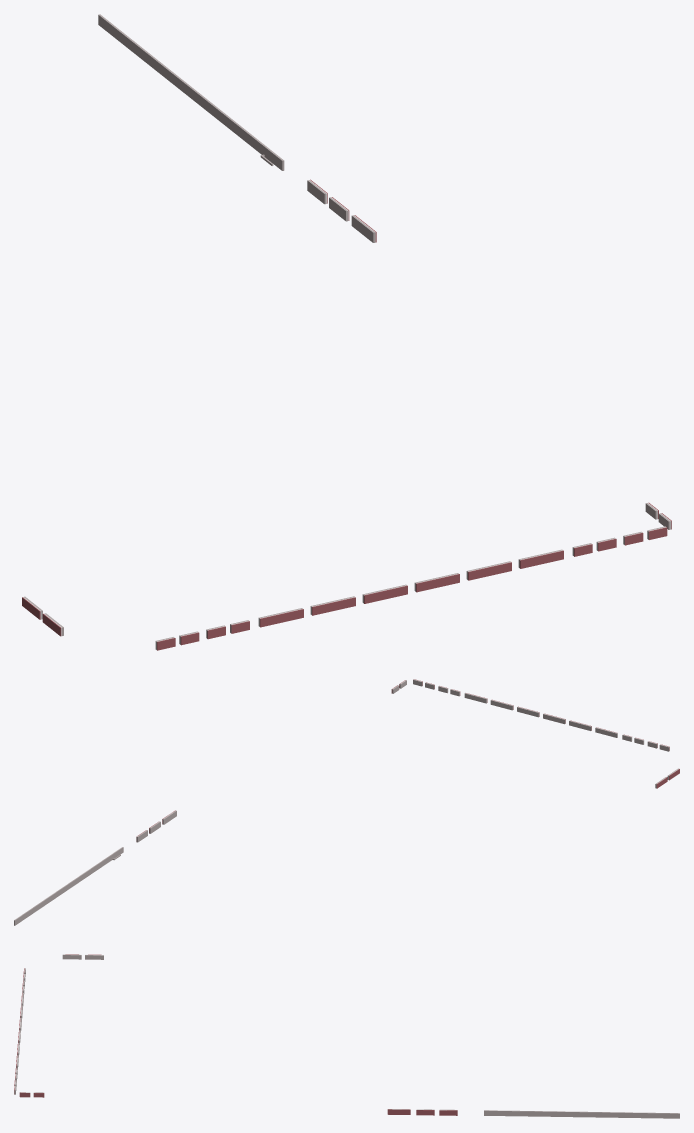
The model's file is 20160125Autodesk_Hospital_Parking Garage_2015_Existing_Garage_-_Roof_Level_IfcWallStandardCase.dae.
3 views of the same model, one above another, from view 1: azimuth 30°, elevation 25°; view 2: azimuth 150°, elevation 25°; view 3: azimuth 270°, elevation 25° (orthographic). The views are drawn at different scales.
Parts seen in each view (by area): view 1: 1jjw93lYf4QP0IrrL41VE$; view 2: 1jjw93lYf4QP0IrrL41VE$; view 3: 1jjw93lYf4QP0IrrL41VE$.
Boxes of the visible parts, x1,y1,x2,y2 form: 1jjw93lYf4QP0IrrL41VE$: [98, 14, 284, 170]; 1jjw93lYf4QP0IrrL41VE$: [14, 847, 123, 925]; 1jjw93lYf4QP0IrrL41VE$: [484, 1110, 679, 1118].
Bounding box in the file's own units: 71.92 × 126 × 1.09.
